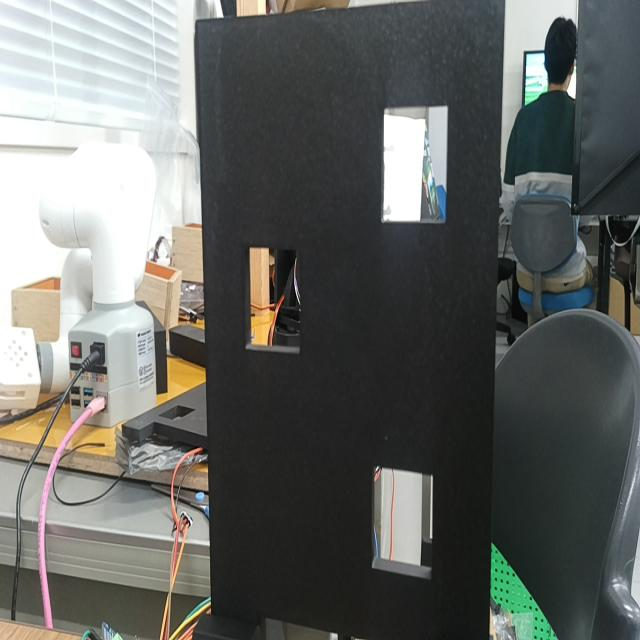Obstacle: (381, 106, 449, 221), (373, 464, 433, 578), (246, 245, 302, 351)
Wall: (195, 0, 507, 639)
